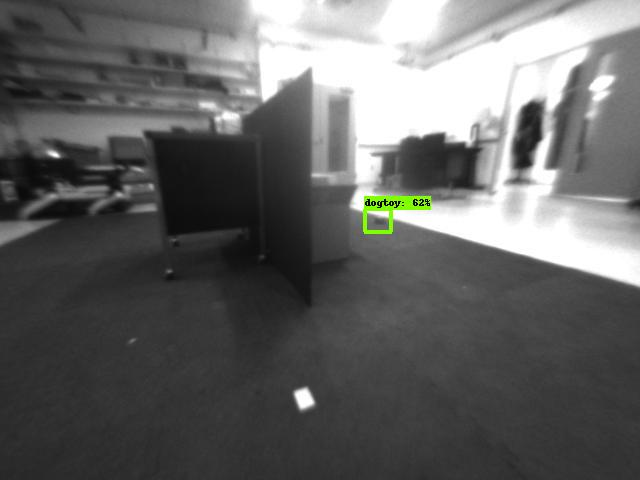dogtoy: (368, 209, 389, 230)
